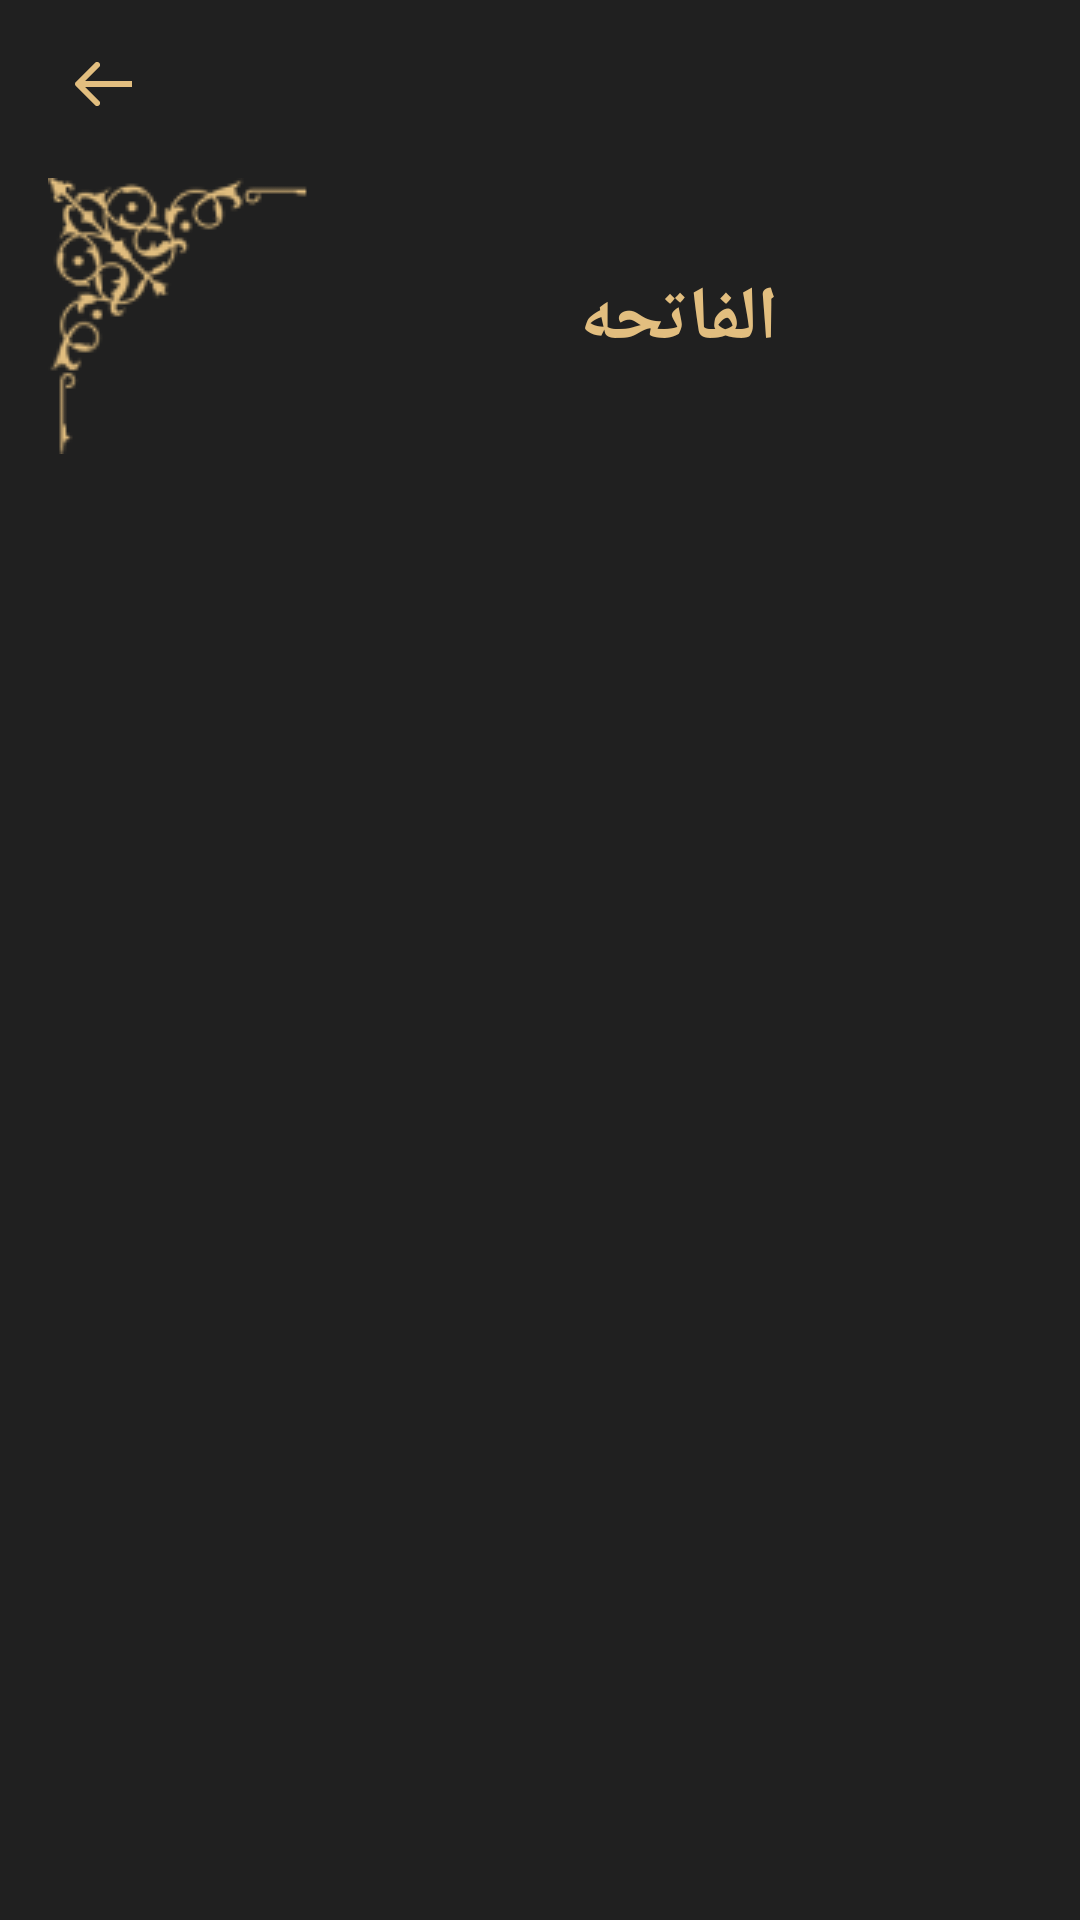

Locate icon controls on the screen. Image size 1080*1920, boxes as (x1, y1, x2, y2).
arrow: (75, 62, 132, 106)
top left shape: (48, 178, 307, 454)
